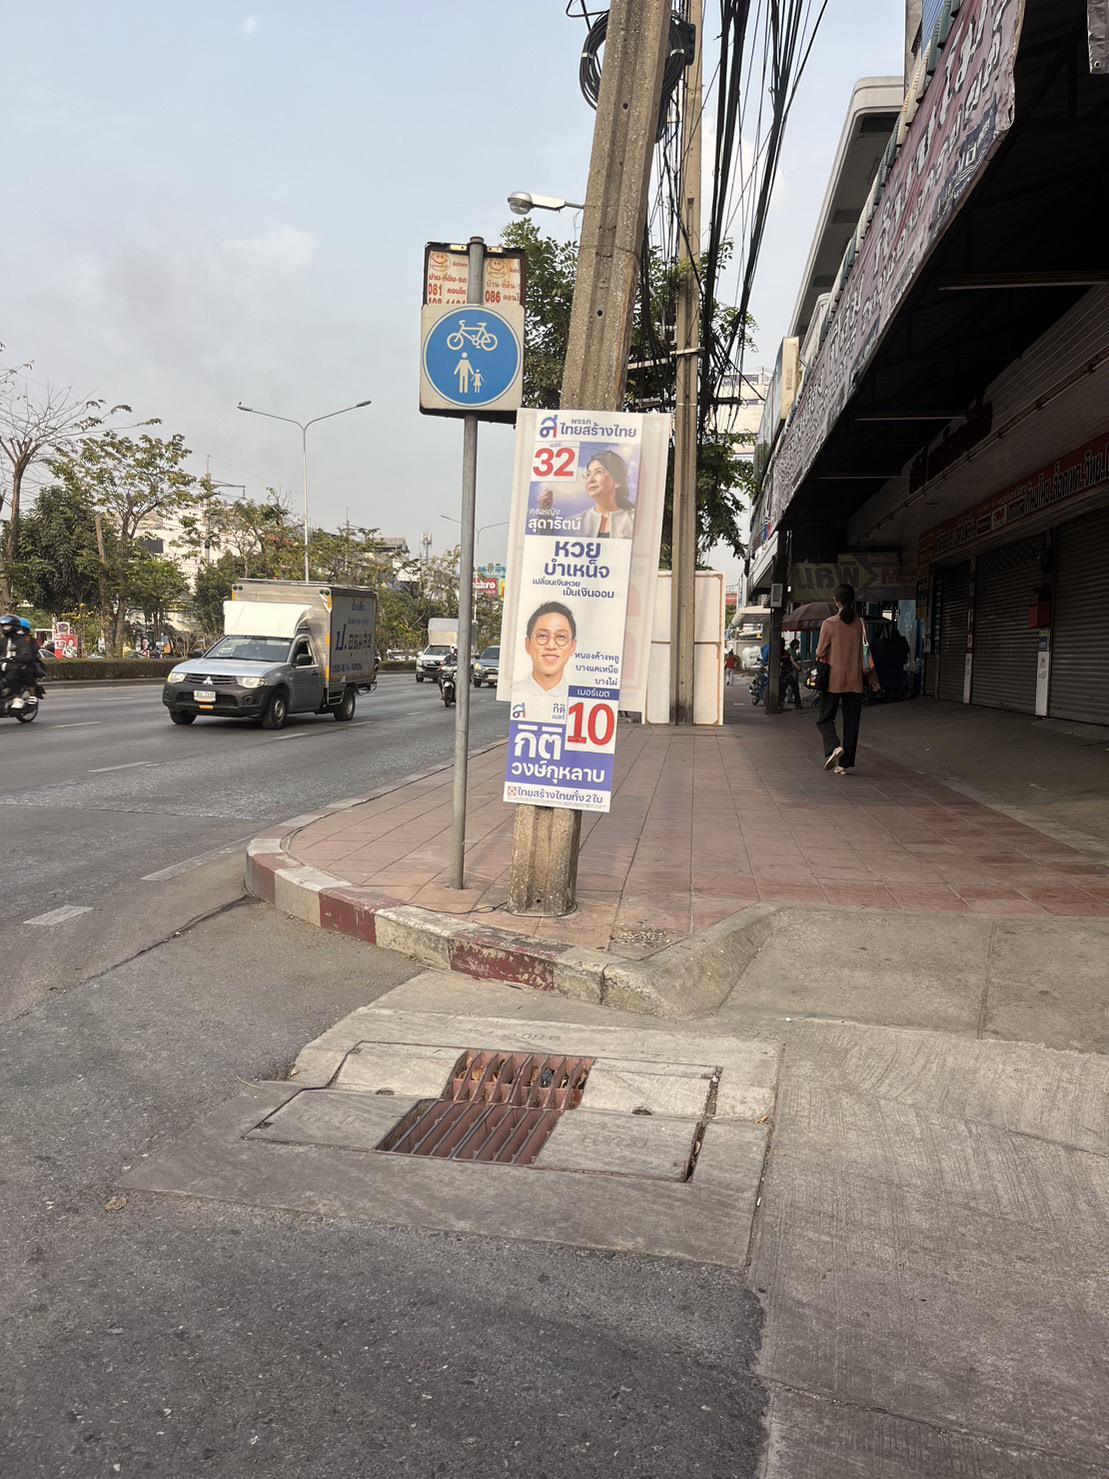Banner: (486, 401, 631, 822)
